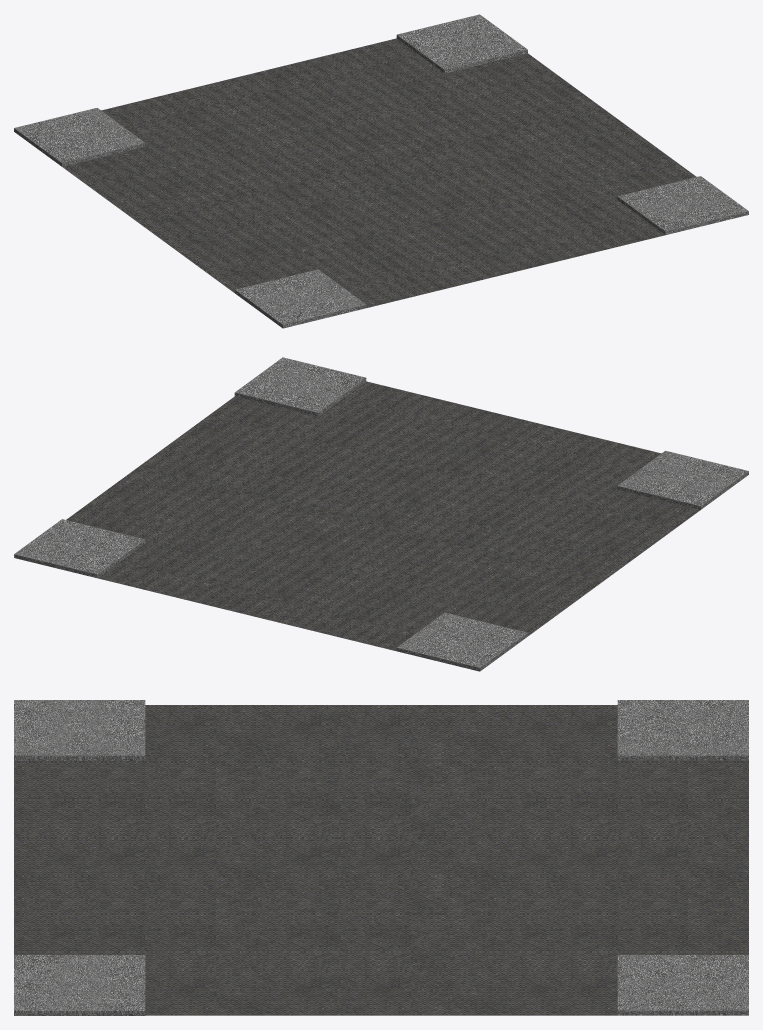
File: Road_Cross.glb
3 views of the same model, one above another, from view 1: azimuth 30°, elevation 25°; view 2: azimuth 150°, elevation 25°; view 3: azimuth 270°, elevation 25° (orthographic). The views are drawn at different scales.
Parts seen in each view (by area): view 1: Road_Cross; view 2: Road_Cross; view 3: Road_Cross.
Part boxes in pixels (x1,y1,x2,y2): Road_Cross: (14, 14, 748, 328); Road_Cross: (14, 357, 748, 671); Road_Cross: (14, 700, 748, 1015).
Bounding box in the file's own units: 15.58 × 0.1182 × 15.57.
Materials: 2 (2 with a texture image).
